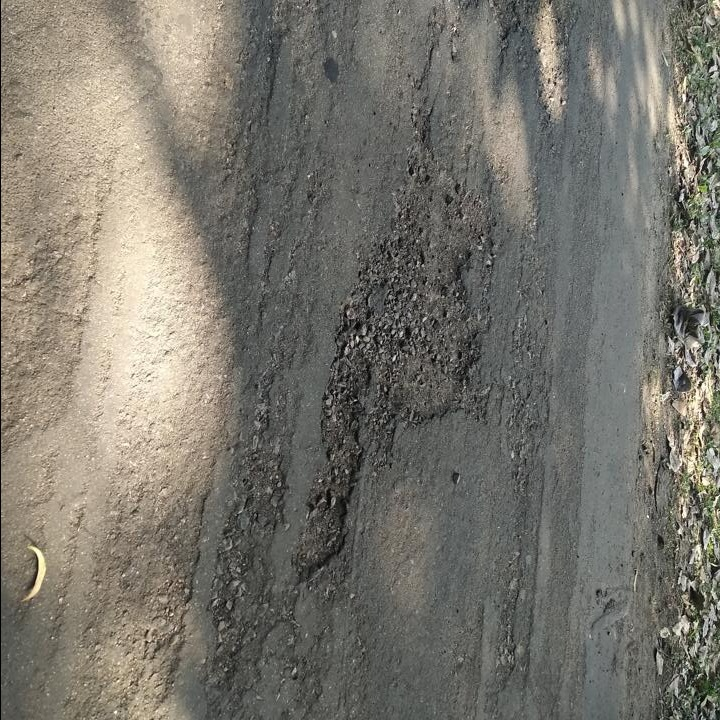pothole: (286, 96, 499, 584), (484, 0, 527, 44)
